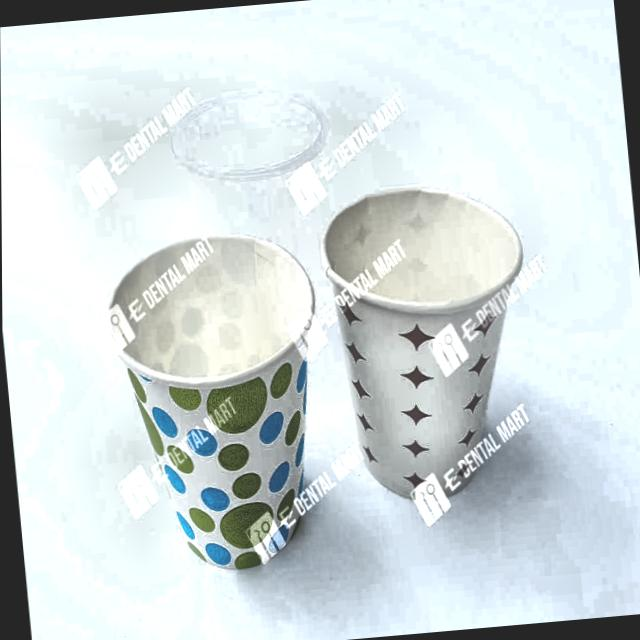Cup: (94, 211, 343, 587), (316, 170, 547, 516)
